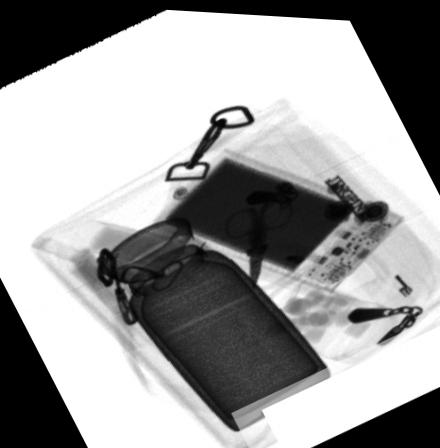Powerbank: (150, 144, 408, 290)
Scissors: (223, 185, 297, 289)
